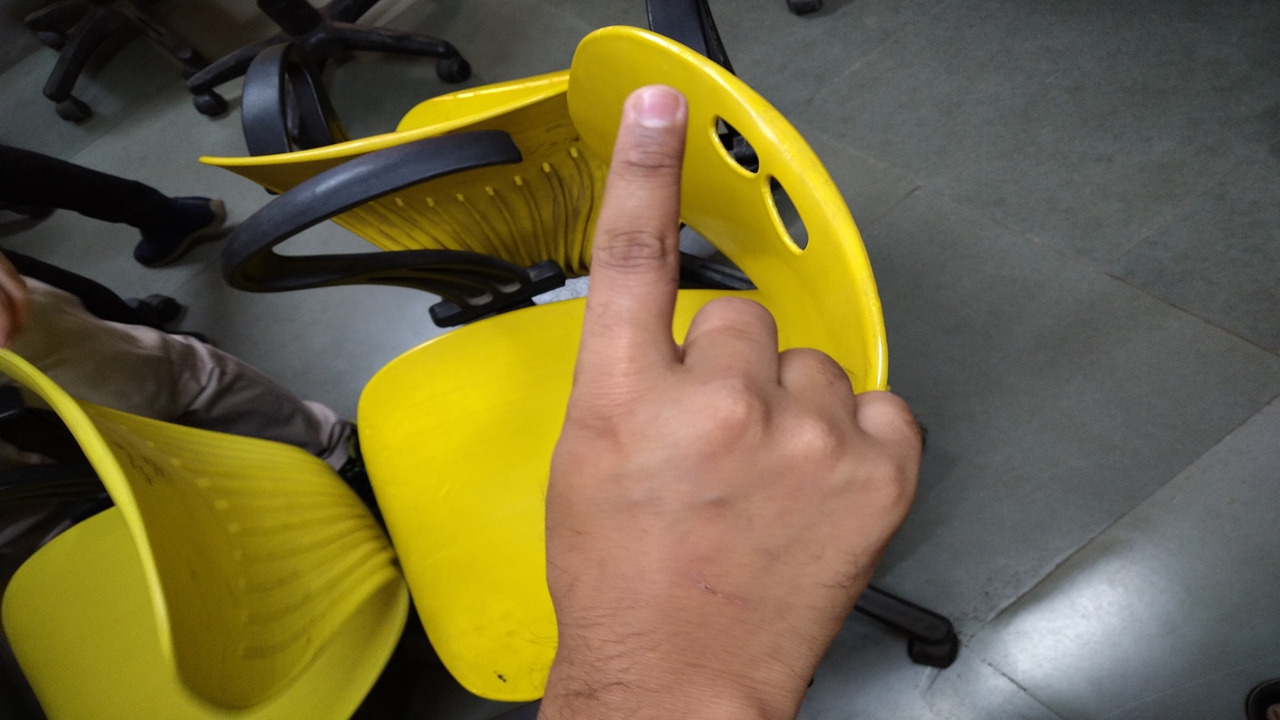fingertip: (622, 76, 684, 146)
